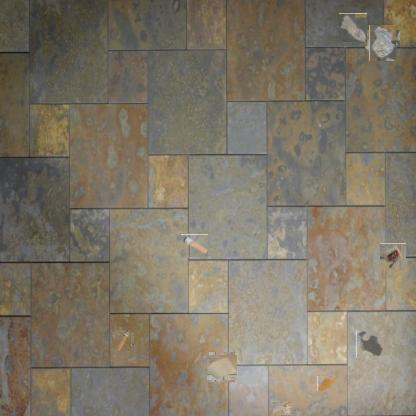dirty: (367, 28, 398, 59), (339, 14, 368, 42), (208, 353, 236, 381), (380, 243, 406, 270), (180, 234, 208, 257), (114, 330, 132, 350), (272, 401, 292, 415)
liquid: (356, 330, 383, 358), (317, 375, 336, 391)
